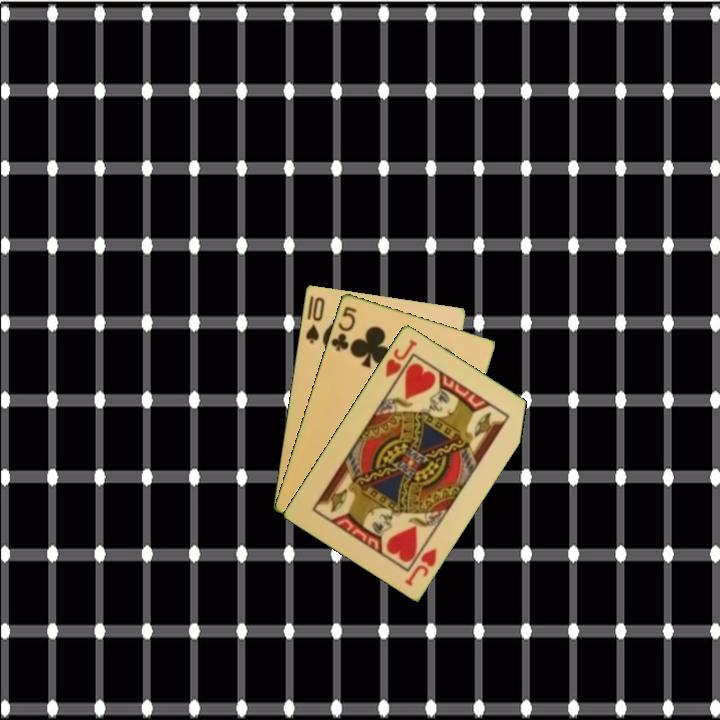10s: (302, 293, 327, 346)
5c: (328, 302, 360, 354)
Jh: (401, 544, 440, 588), (382, 335, 420, 380)
